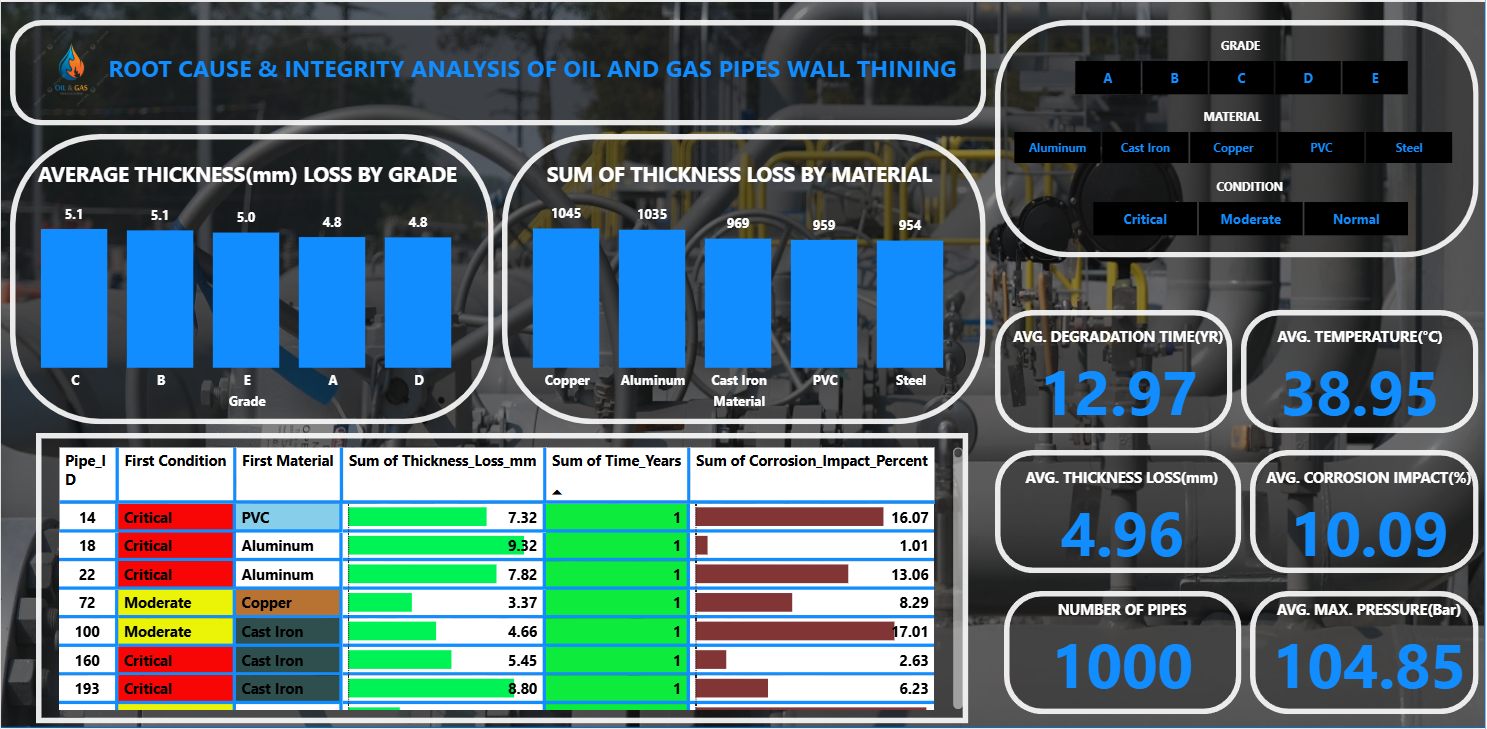

This screenshot's page, from the dashboard's own definition file:
{"tool":"powerbi","page":{"name":"Page 1","canvas":[1350,660],"ordinal":0},"visuals":[{"type":"shape","box":[-2,-4,1352,664],"z":0},{"type":"shape","box":[8,16,888,96],"z":1000},{"type":"textbox","box":[64,40,840,80],"z":2000},{"type":"shape","box":[904,16,440,216],"z":3000},{"type":"slicer","title":"GRADE","fields":{"Values":["pipe_thickness_loss_dataset.Grade"]},"box":[952,32,352,56],"z":4000},{"type":"slicer","title":"MATERIAL","fields":{"Values":["pipe_thickness_loss_dataset.Material"]},"box":[896,96,448,56],"z":5000},{"type":"slicer","title":"CONDITION","fields":{"Values":["pipe_thickness_loss_dataset.Condition"]},"box":[968,160,336,56],"z":6000},{"type":"shape","box":[1136,408,208,112],"z":7000},{"type":"shape","box":[904,408,224,112],"z":8000},{"type":"shape","box":[1128,280,216,112],"z":9000},{"type":"shape","box":[904,280,216,112],"z":10000},{"type":"card","title":"AVG. CORROSION IMPACT(%)","fields":{"Values":["Avg(pipe_thickness_loss_dataset.Corrosion_Impact_Percent)"]},"box":[1144,424,200,96],"z":11000},{"type":"card","title":"AVG. THICKNESS LOSS(mm)","fields":{"Values":["Avg(pipe_thickness_loss_dataset.Thickness_Loss_mm)"]},"box":[920,424,200,96],"z":12000},{"type":"card","title":"AVG. TEMPERATURE(°C)","fields":{"Values":["Avg(pipe_thickness_loss_dataset.Temperature_C)"]},"box":[1136,296,200,96],"z":13000},{"type":"card","title":"AVG. DEGRADATION TIME(YR)","fields":{"Values":["Avg(pipe_thickness_loss_dataset.Time_Years)"]},"box":[912,296,208,96],"z":14000},{"type":"shape","box":[912,536,216,112],"z":15000},{"type":"shape","box":[1136,536,208,112],"z":16000},{"type":"card","title":"NUMBER OF PIPES","fields":{"Values":["CountNonNull(pipe_thickness_loss_dataset.Pipe_ID)"]},"box":[920,544,200,96],"z":17000},{"type":"card","title":"AVG. MAX. PRESSURE(Bar)","fields":{"Values":["Avg(pipe_thickness_loss_dataset.Max_Pressure_Bar)"]},"box":[1144,544,200,96],"z":18000},{"type":"shape","box":[8,120,440,264],"z":19000},{"type":"shape","box":[456,120,440,264],"z":20000},{"type":"shape","box":[32,392,848,264],"z":21000},{"type":"columnChart","title":"AVERAGE THICKNESS(mm) LOSS BY GRADE","fields":{"Category":["pipe_thickness_loss_dataset.Grade"],"Y":["Avg(pipe_thickness_loss_dataset.Thickness_Loss_mm)"]},"box":[0,144,448,232],"z":22000},{"type":"columnChart","title":"SUM OF THICKNESS LOSS BY MATERIAL","fields":{"Y":["Sum(pipe_thickness_loss_dataset.Thickness_Loss_mm)"],"Category":["pipe_thickness_loss_dataset.Material"]},"box":[448,144,448,232],"z":23000},{"type":"pivotTable","fields":{"Rows":["pipe_thickness_loss_dataset.Pipe_ID"],"Values":["Min(pipe_thickness_loss_dataset.Condition)","Min(pipe_thickness_loss_dataset.Material)","Sum(pipe_thickness_loss_dataset.Thickness_Loss_mm)","Sum(pipe_thickness_loss_dataset.Time_Years)","Sum(pipe_thickness_loss_dataset.Corrosion_Impact_Percent)"]},"box":[48,400,832,248],"z":24000},{"type":"image","box":[0,16,128,88],"z":25000}]}

Visuals, with their boxes in screenshot pixels (x1, y1, x2, y2), scaled from the page's 1350x660 canvas onto the 1487x729 screenshot:
shape: x1=0 y1=0 x2=1486 y2=728
shape: x1=9 y1=18 x2=987 y2=124
textbox: x1=70 y1=44 x2=996 y2=133
shape: x1=996 y1=18 x2=1480 y2=256
"GRADE" slicer: x1=1049 y1=35 x2=1436 y2=97
"MATERIAL" slicer: x1=987 y1=106 x2=1480 y2=168
"CONDITION" slicer: x1=1066 y1=177 x2=1436 y2=239
shape: x1=1251 y1=451 x2=1480 y2=574
shape: x1=996 y1=451 x2=1242 y2=574
shape: x1=1242 y1=309 x2=1480 y2=433
shape: x1=996 y1=309 x2=1234 y2=433
"AVG. CORROSION IMPACT(%)" card: x1=1260 y1=468 x2=1480 y2=574
"AVG. THICKNESS LOSS(mm)" card: x1=1013 y1=468 x2=1234 y2=574
"AVG. TEMPERATURE(°C)" card: x1=1251 y1=327 x2=1472 y2=433
"AVG. DEGRADATION TIME(YR)" card: x1=1005 y1=327 x2=1234 y2=433
shape: x1=1005 y1=592 x2=1242 y2=716
shape: x1=1251 y1=592 x2=1480 y2=716
"NUMBER OF PIPES" card: x1=1013 y1=601 x2=1234 y2=707
"AVG. MAX. PRESSURE(Bar)" card: x1=1260 y1=601 x2=1480 y2=707
shape: x1=9 y1=133 x2=493 y2=424
shape: x1=502 y1=133 x2=987 y2=424
shape: x1=35 y1=433 x2=969 y2=725
"AVERAGE THICKNESS(mm) LOSS BY GRADE" columnChart: x1=0 y1=159 x2=493 y2=415
"SUM OF THICKNESS LOSS BY MATERIAL" columnChart: x1=493 y1=159 x2=987 y2=415
pivotTable - pipe_thickness_loss_dataset.Pipe_ID x Min(pipe_thickness_loss_dataset.Condition): x1=53 y1=442 x2=969 y2=716
image: x1=0 y1=18 x2=141 y2=115
